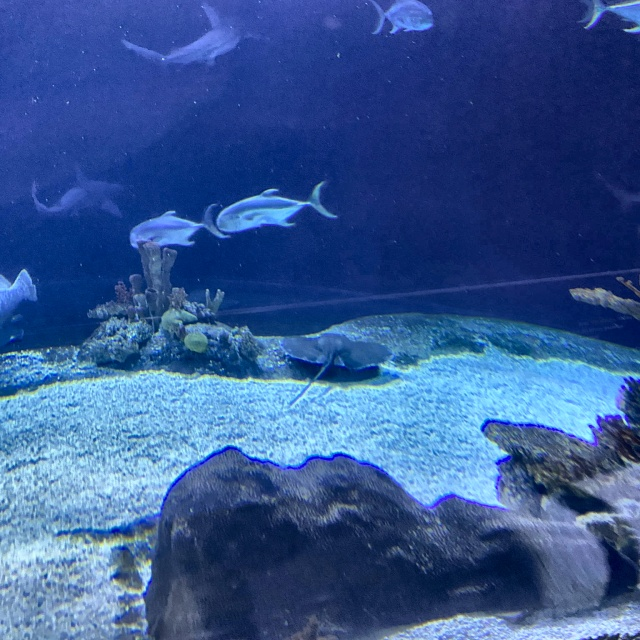fish: (215, 179, 338, 234), (127, 204, 232, 251), (368, 1, 436, 37), (0, 269, 35, 335), (586, 0, 639, 35)
shark: (125, 3, 262, 68), (32, 165, 139, 218)
stingray: (279, 331, 393, 372)
